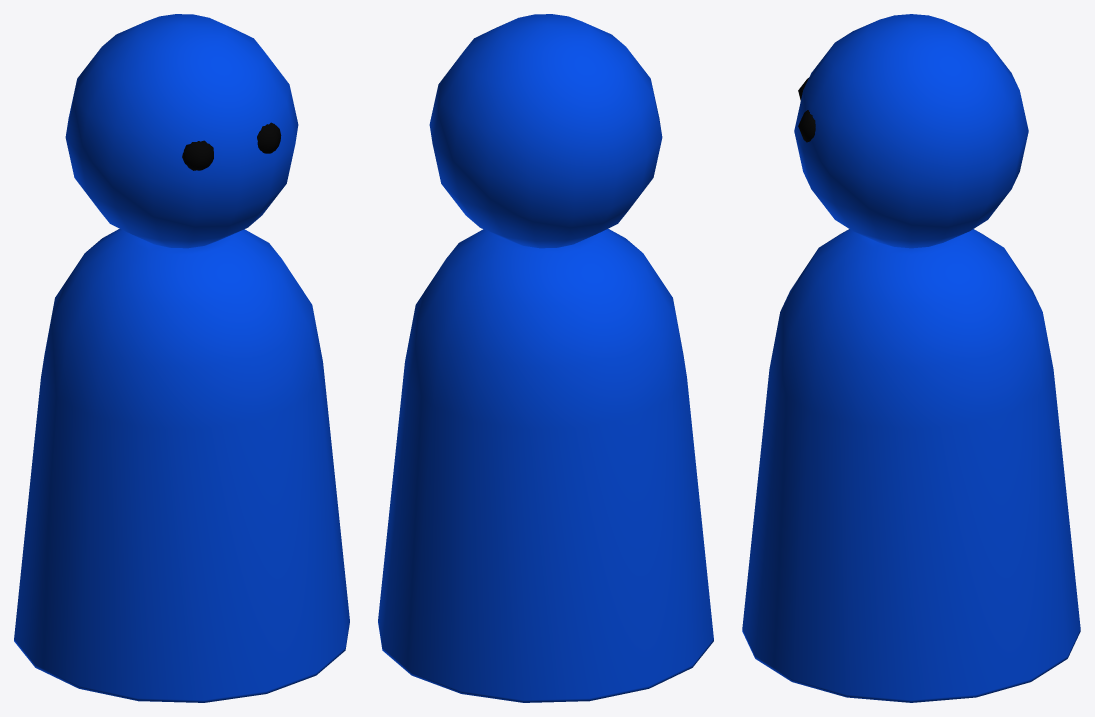
The model's file is SellerCharacter.glb.
3 renders of one model, left to right at view 1: azimuth 30°, elevation 25°; view 2: azimuth 150°, elevation 25°; view 3: azimuth 270°, elevation 25°, orthographic.
Parts seen in each view (by area): view 1: Body.001; view 2: Body.001; view 3: Body.001.
Boxes of the visible parts, <box> form: Body.001: <box>14,14,349,702</box>; Body.001: <box>378,14,713,702</box>; Body.001: <box>742,14,1080,702</box>.
Size of the model in its own units: 2 by 3.96 by 2.
